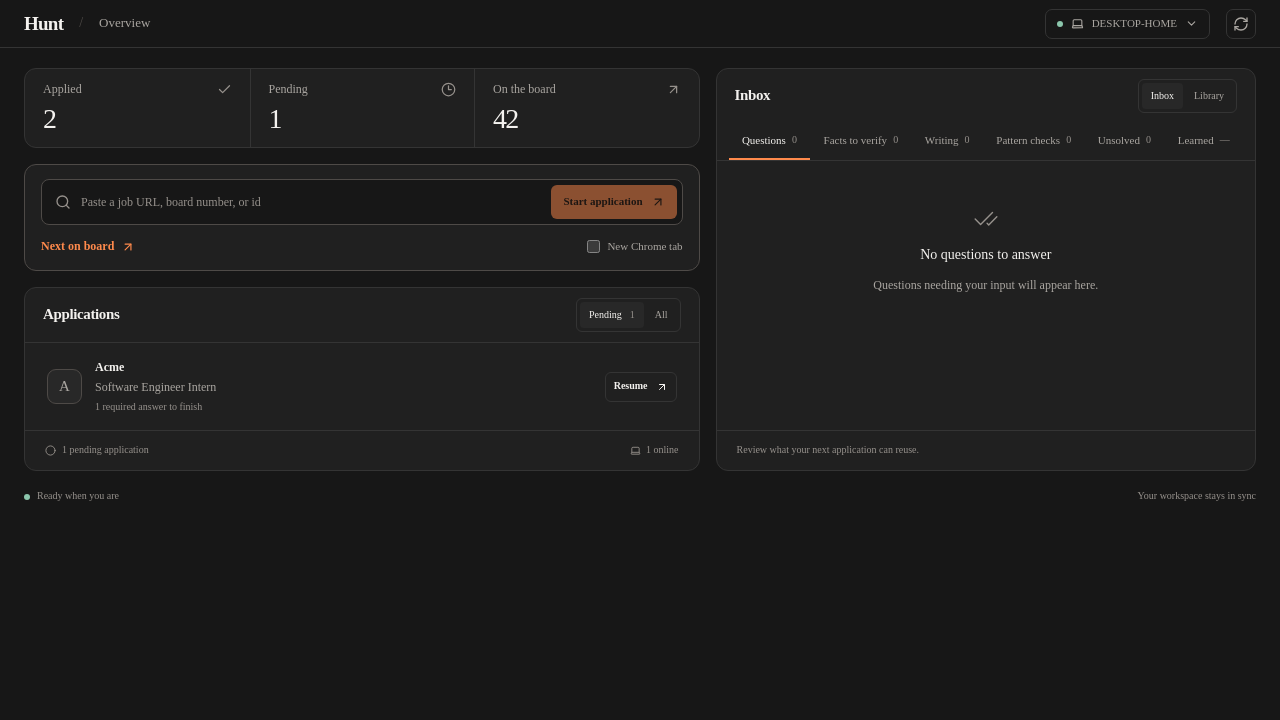
Test: a failed start stays on the dashboard with the entered reference
The width and height of the screenshot is (1280, 720).
Step 1. Type "https://jobs.example/role" into the field named "Apply to" → (311, 202), box [81, 186, 541, 218]
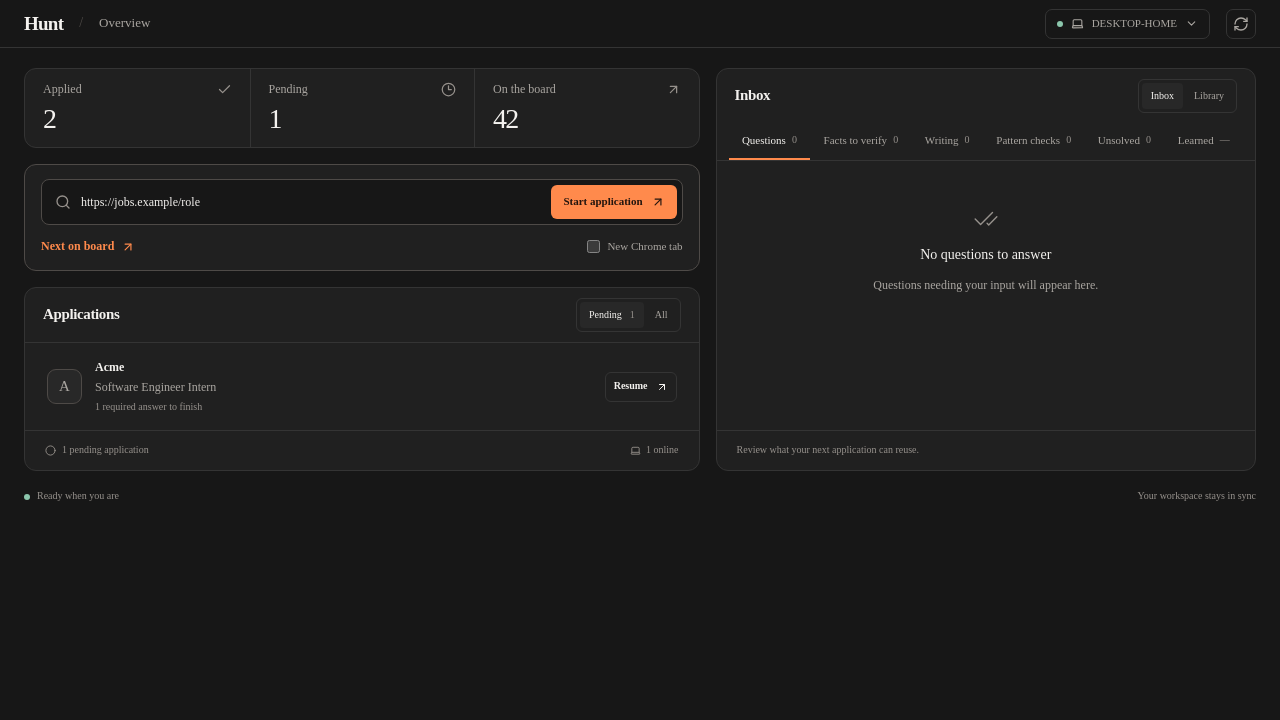
Step 2. Click the button "Start application" → (614, 202), box [551, 185, 677, 219]
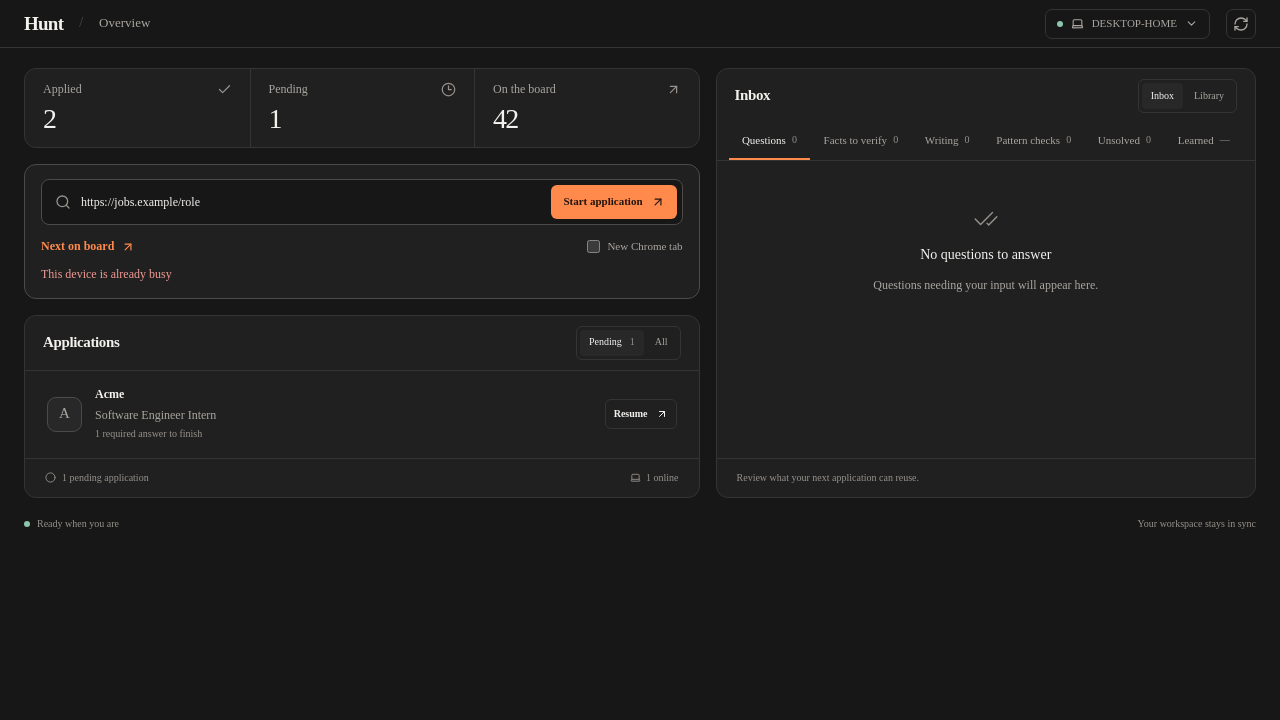
Expected: the message reads "This device is already busy", [41, 267, 172, 281]
